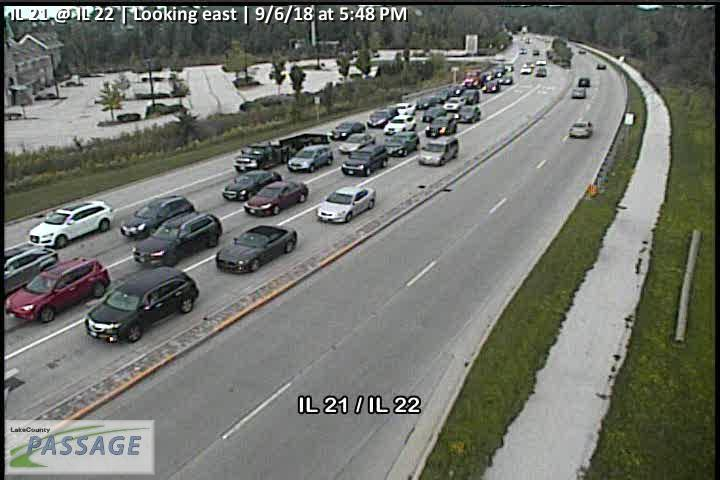SUV: (83, 265, 199, 344), (4, 256, 111, 323), (131, 210, 223, 267), (26, 199, 114, 249), (120, 194, 196, 239), (1, 244, 59, 295), (341, 142, 388, 177), (286, 143, 334, 172), (418, 135, 460, 167), (386, 131, 420, 156), (367, 105, 399, 128), (425, 116, 457, 138), (384, 114, 417, 135), (456, 105, 481, 123), (422, 105, 446, 122), (444, 96, 465, 112), (462, 89, 480, 104), (482, 79, 500, 94), (571, 87, 585, 99), (578, 77, 590, 87)
Sedan: (215, 222, 298, 274), (243, 177, 309, 217), (316, 184, 377, 223), (222, 169, 282, 201), (338, 133, 376, 153), (329, 120, 367, 140), (569, 120, 593, 138), (398, 102, 416, 115), (499, 75, 513, 85)
Truck: (233, 132, 330, 172)
